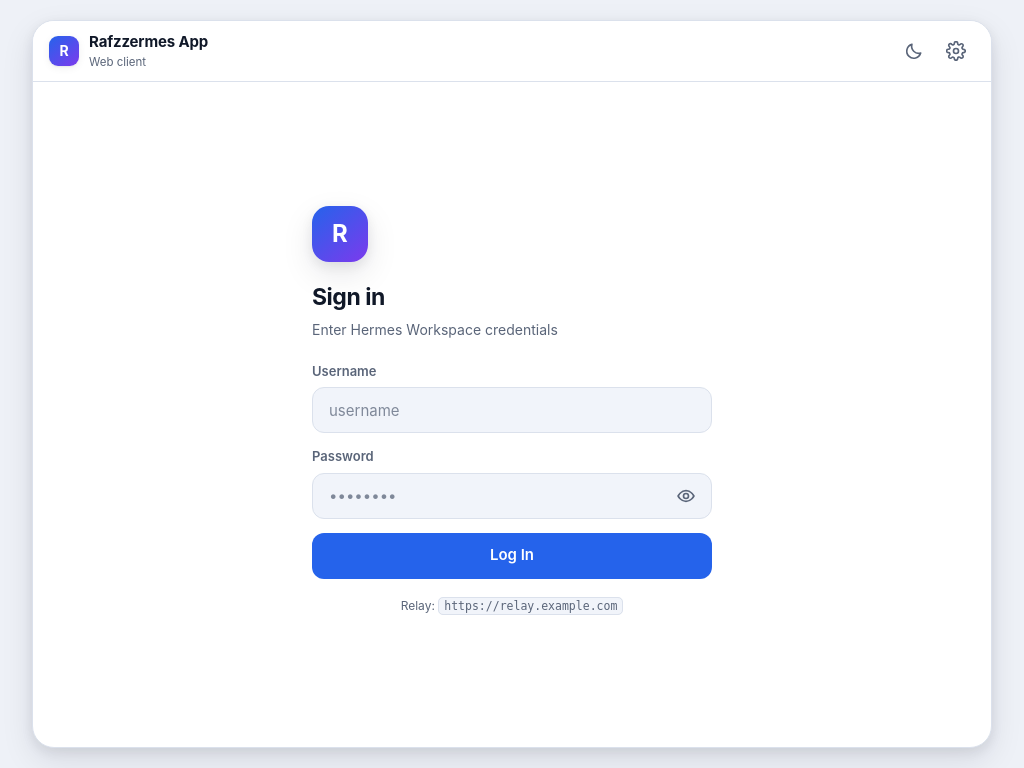
Test: App (rendered in jsdom) › logs out and returns to the login screen
The width and height of the screenshot is (1024, 768).
Type "rafi" into the field labelled "Username".
click(516, 410); type("rafi")  # box left=327, top=388, right=705, bottom=432
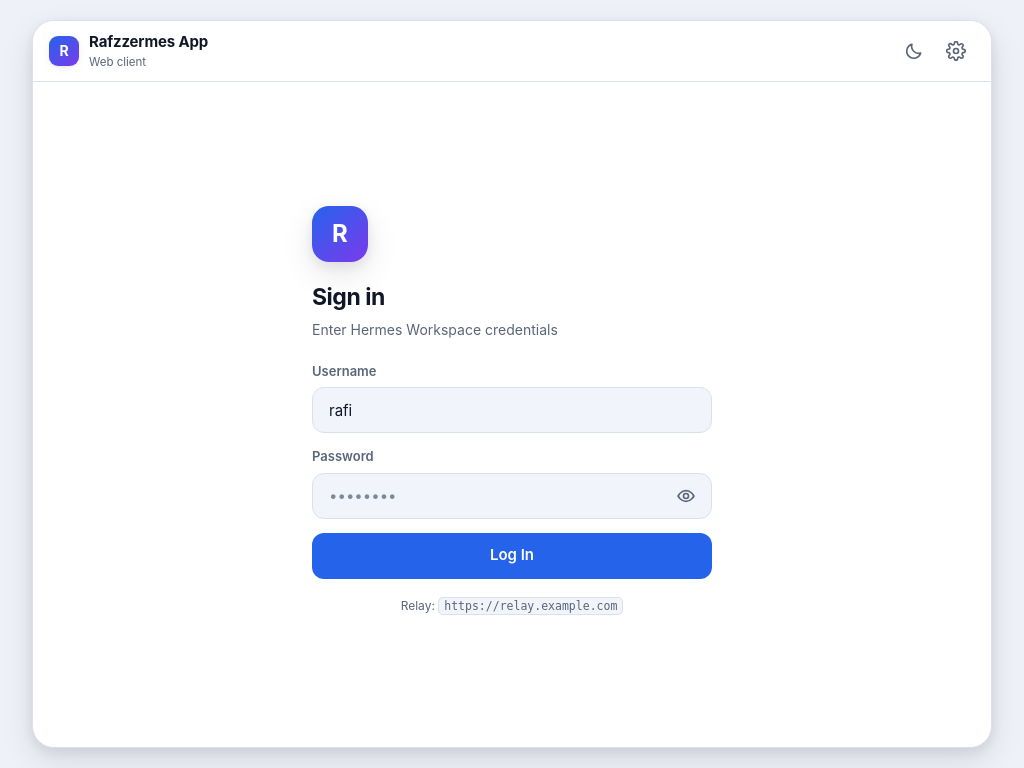
Type "secret" into the password field labelled "Password".
click(494, 496); type("secret")  # box left=327, top=474, right=661, bottom=518
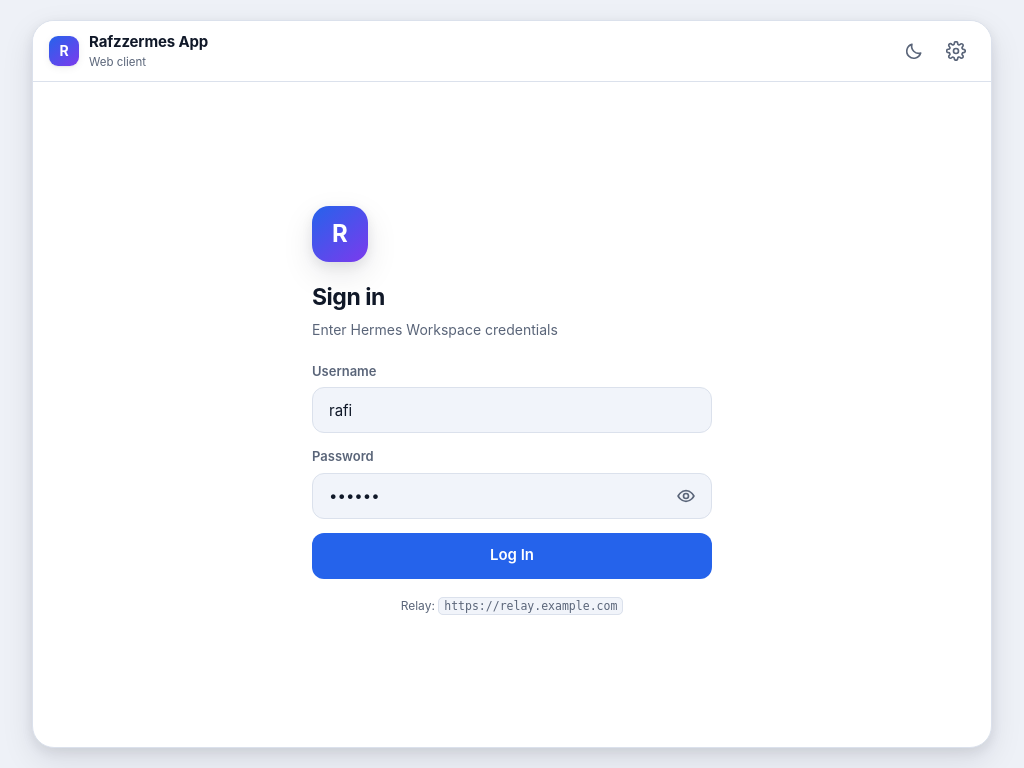
Click the button "Log In".
click(512, 556)  # box left=312, top=532, right=712, bottom=578
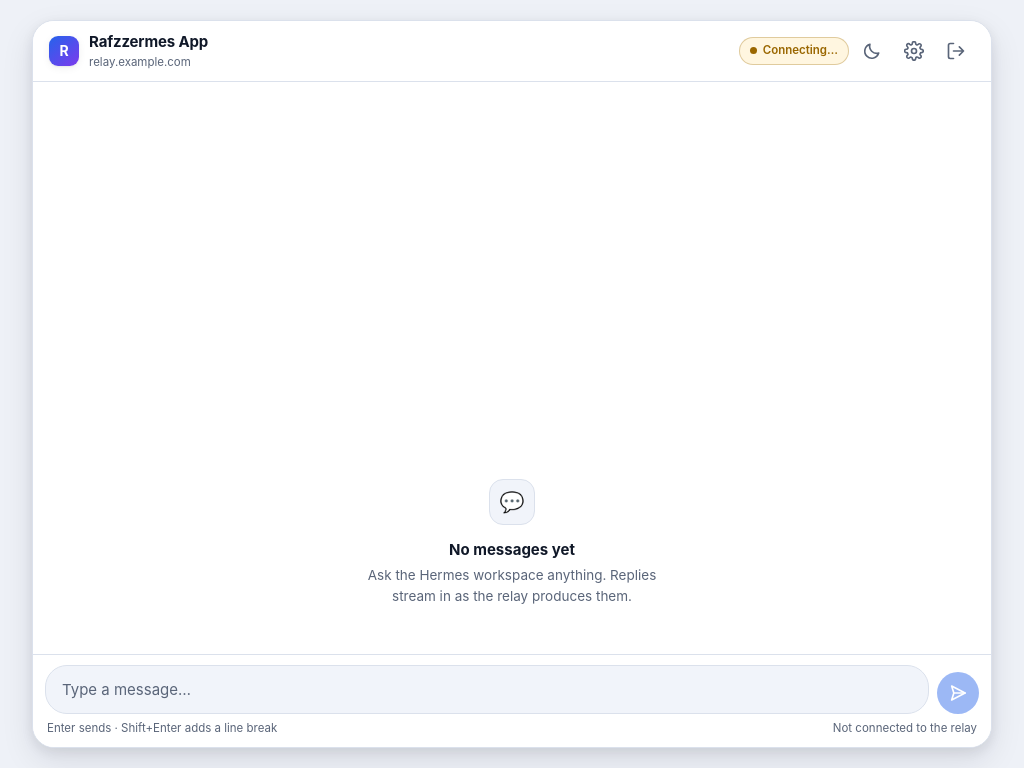
Expected: the button named "Log out" is shown
Click the button named "Log out".
click(956, 51)  # box left=937, top=32, right=975, bottom=70
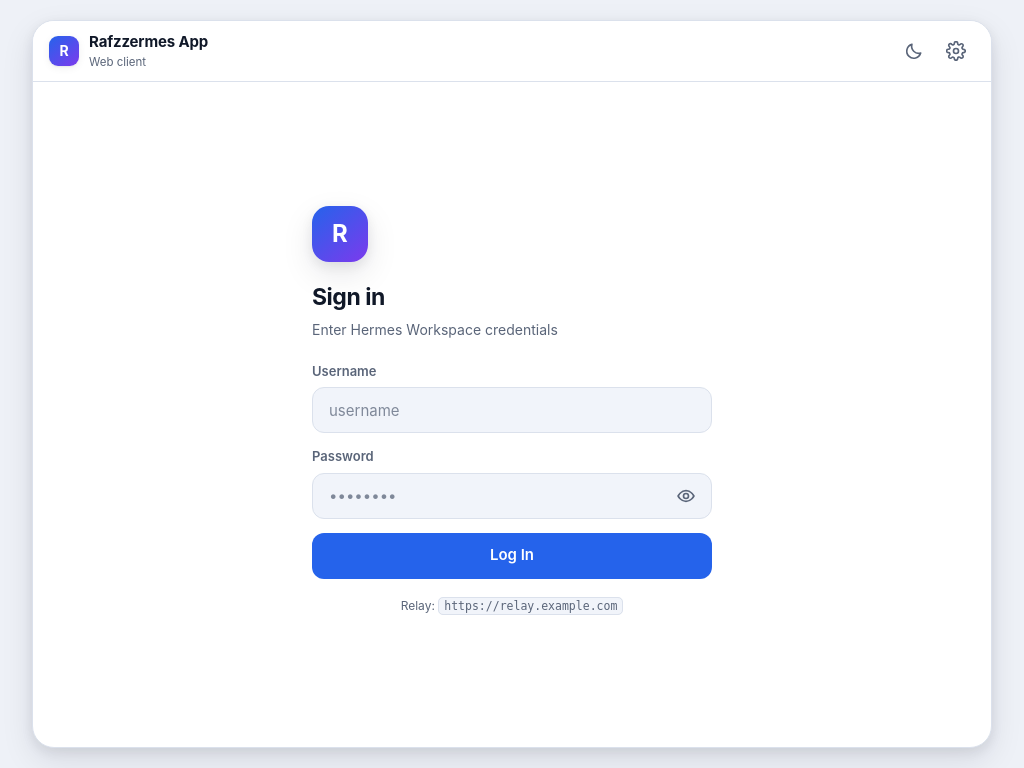
Expected: the text "Enter Hermes Workspace credentials" is shown, left=312, top=320, right=558, bottom=338
